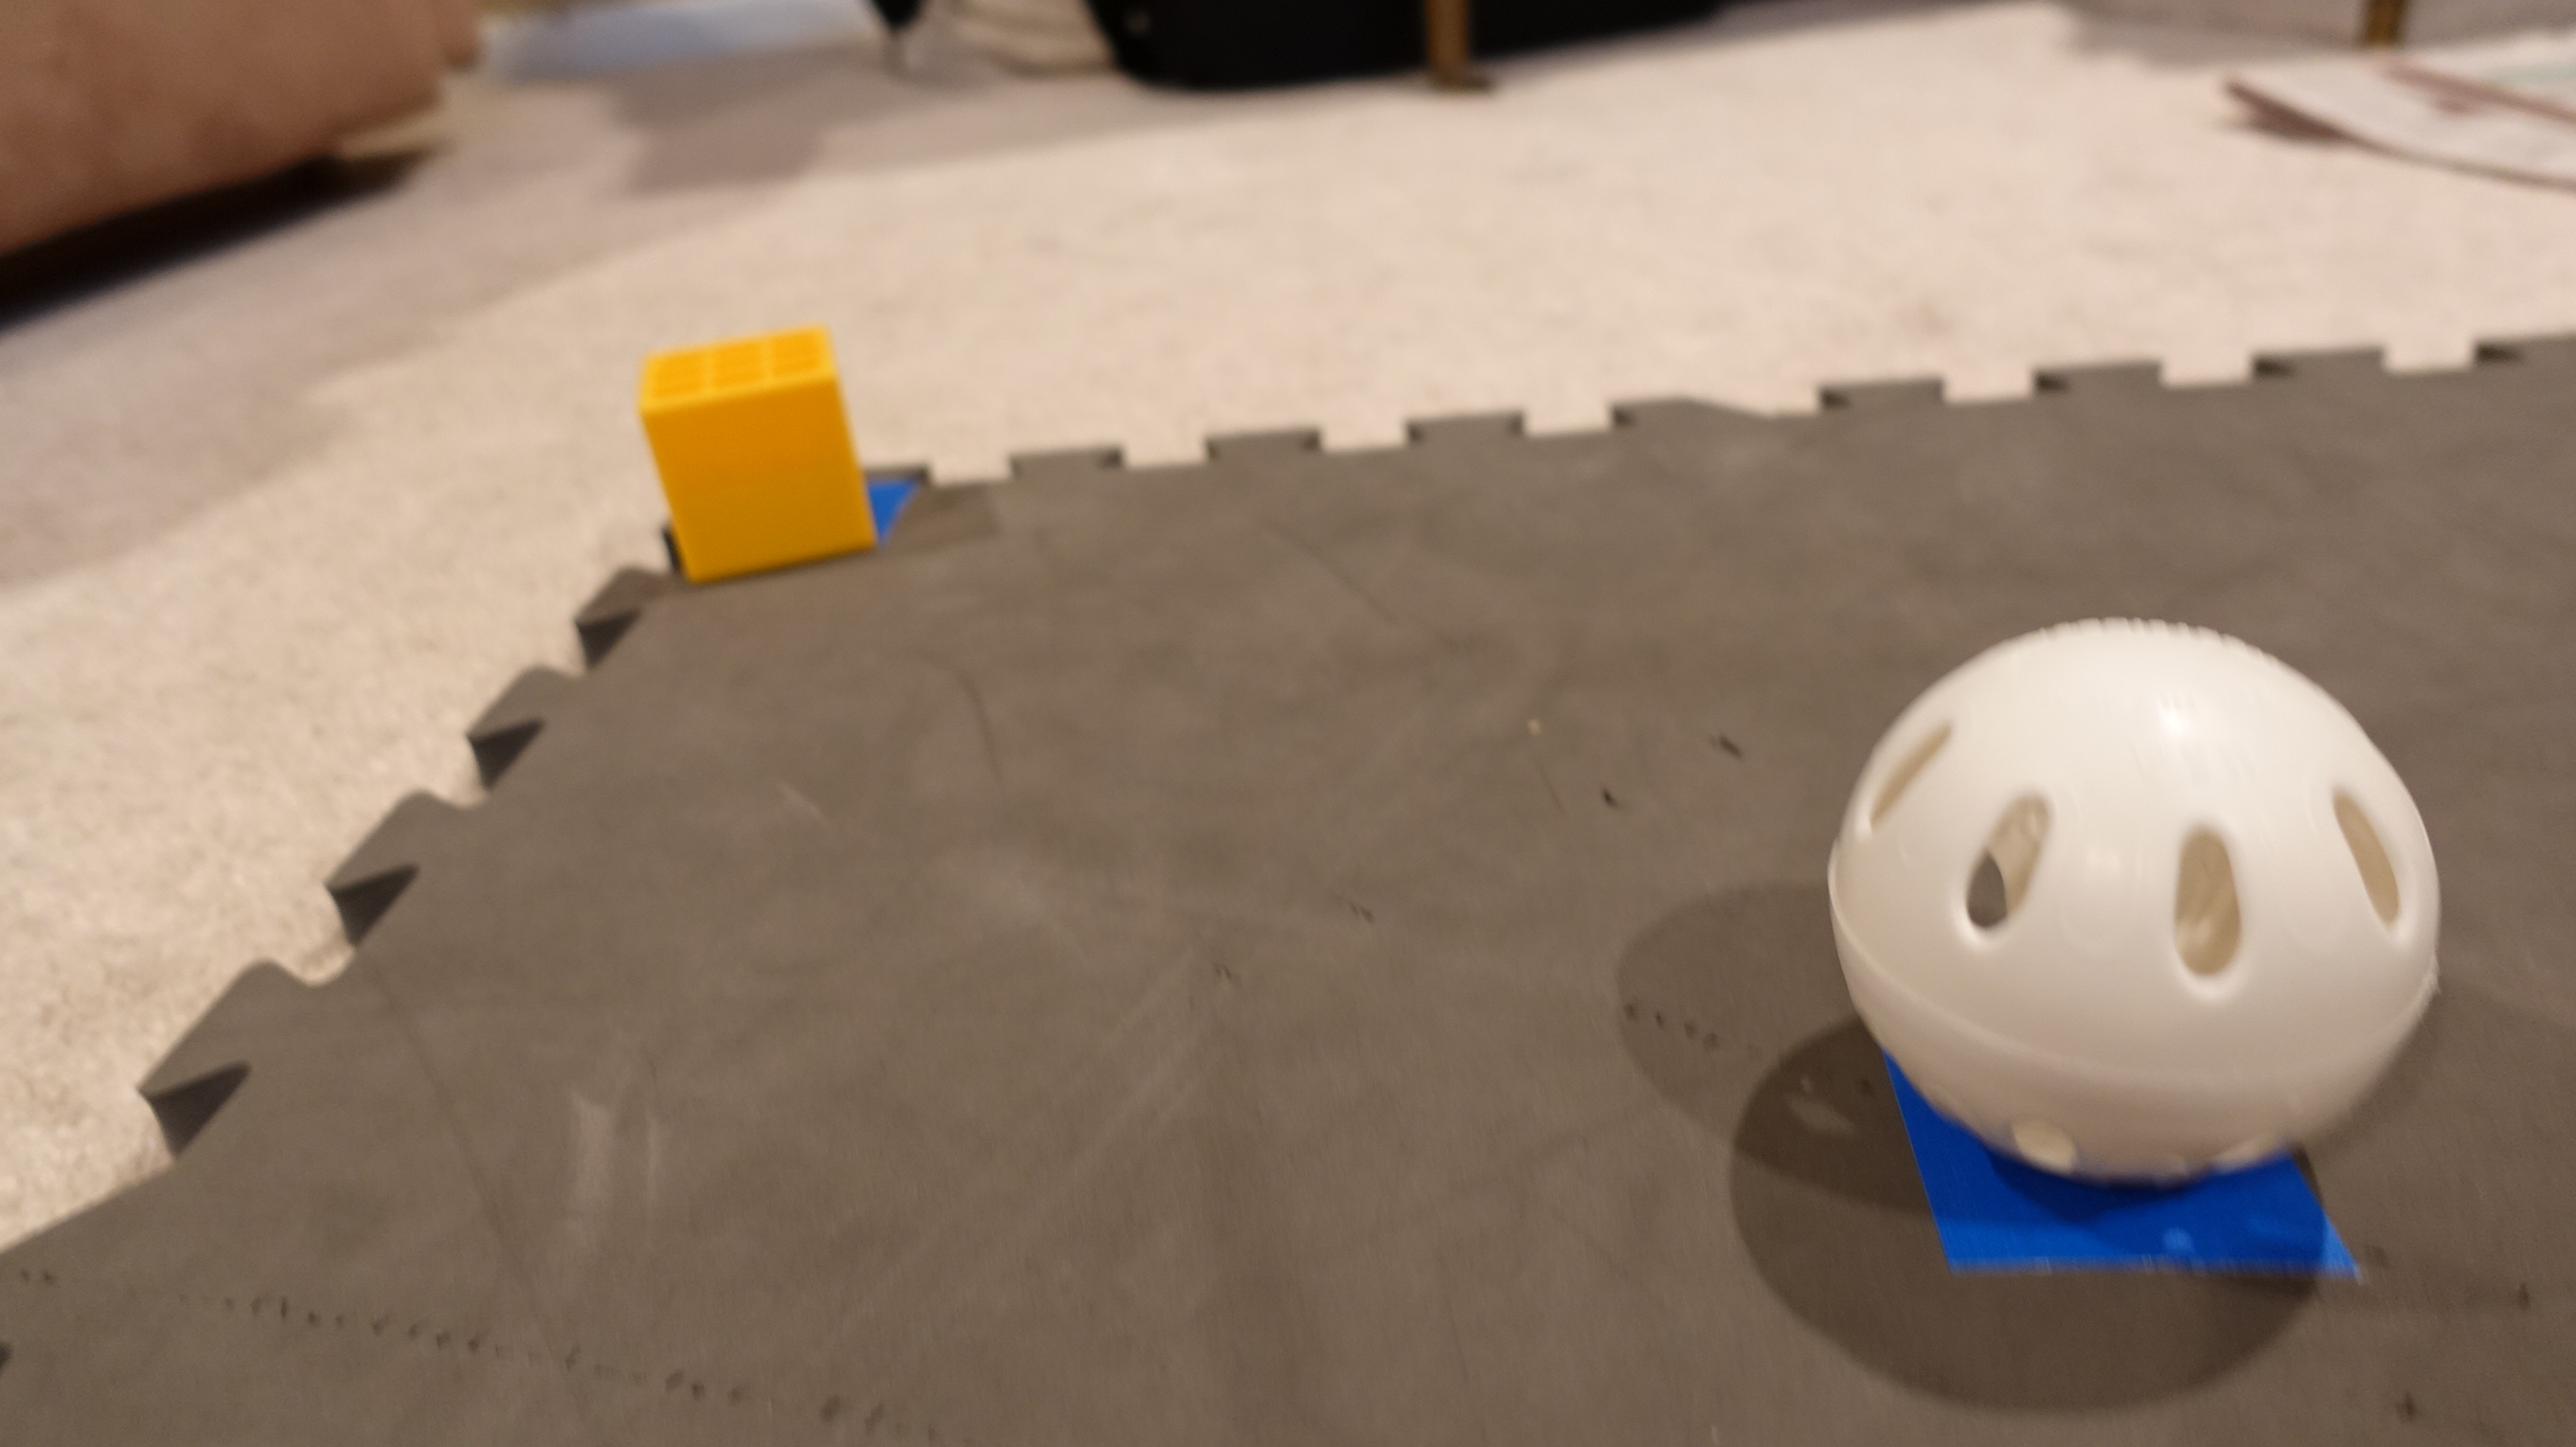silver: (1819, 610, 2447, 1187), (625, 325, 885, 582)
